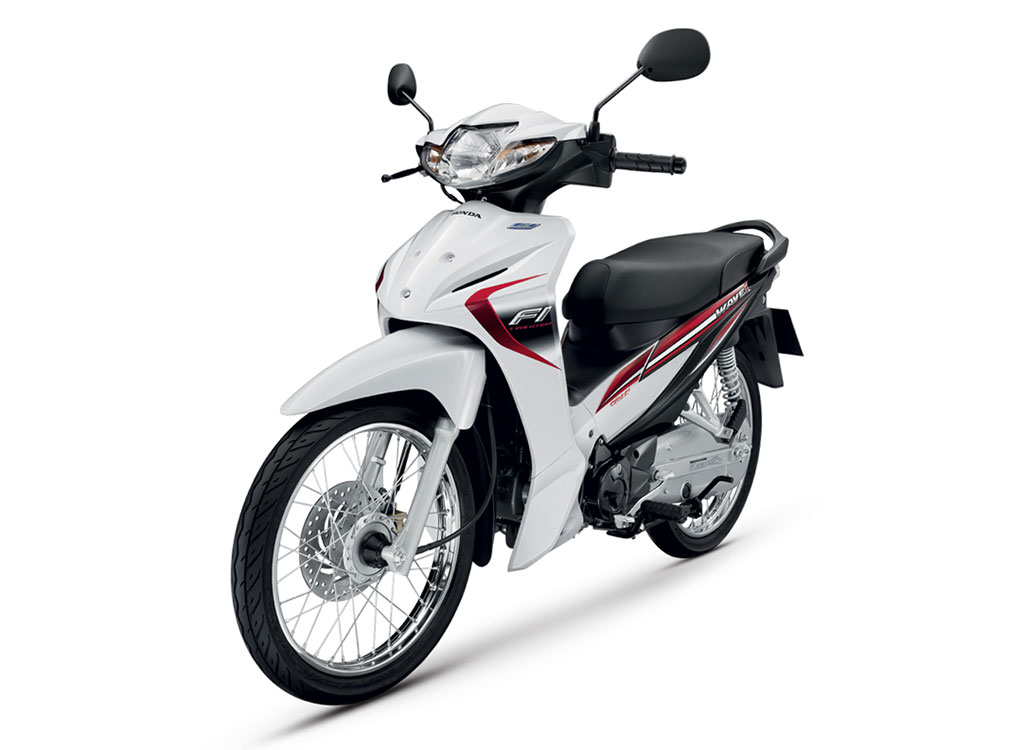motorcycle: (232, 29, 805, 706)
